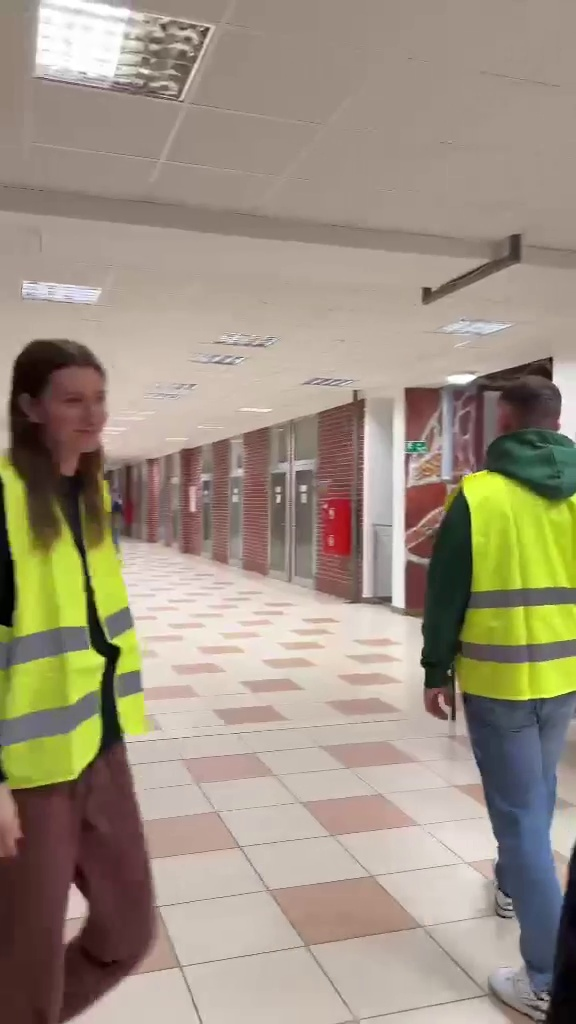vest: (0, 338, 173, 1014), (425, 374, 576, 1010)
